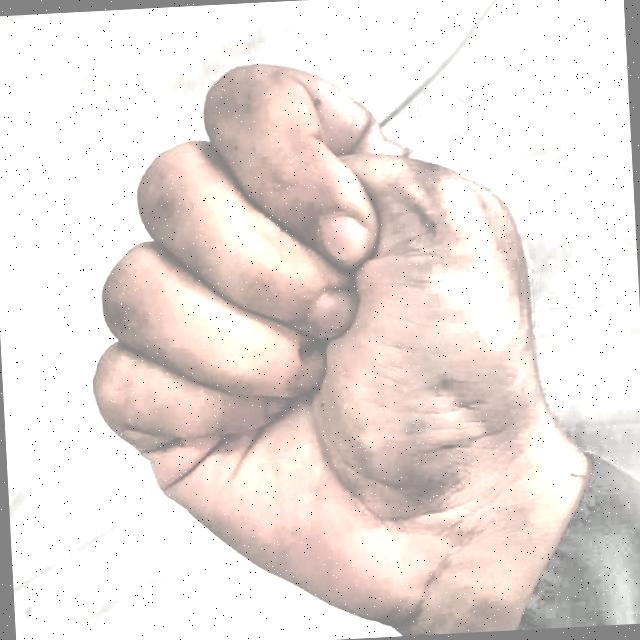To: (60, 31, 587, 640)
